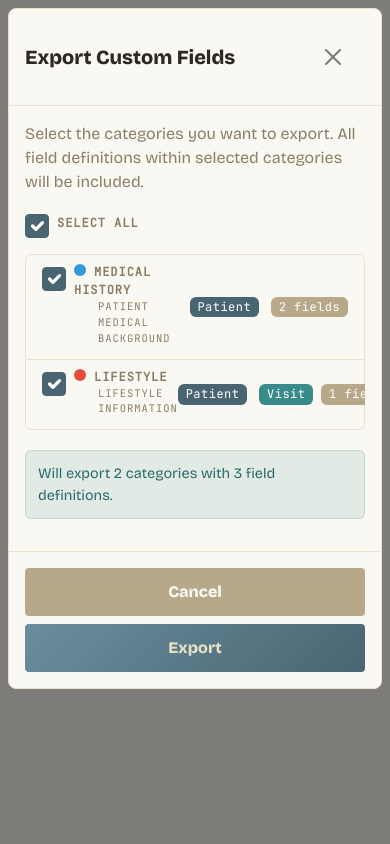
Test: ExportCustomFieldsModal › Selection behavior › deselects all when Select All is unchecked
The width and height of the screenshot is (390, 844).
Click the checkbox labelled "Select All". click: [37, 226]
box: [25, 214, 49, 238]
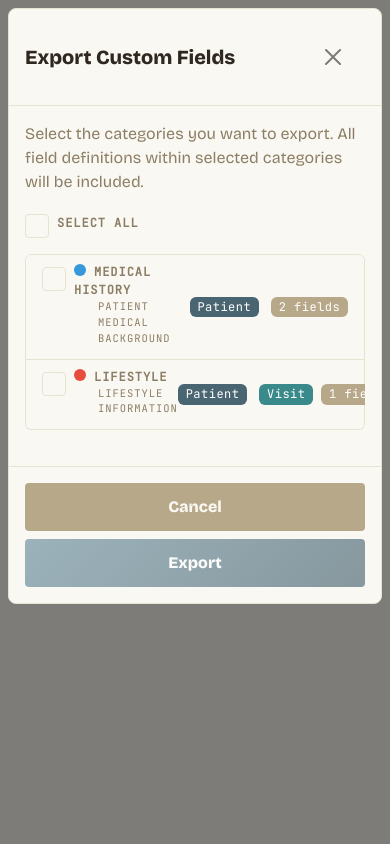
Check: the button "Export" is disabled, box [25, 539, 365, 587]
